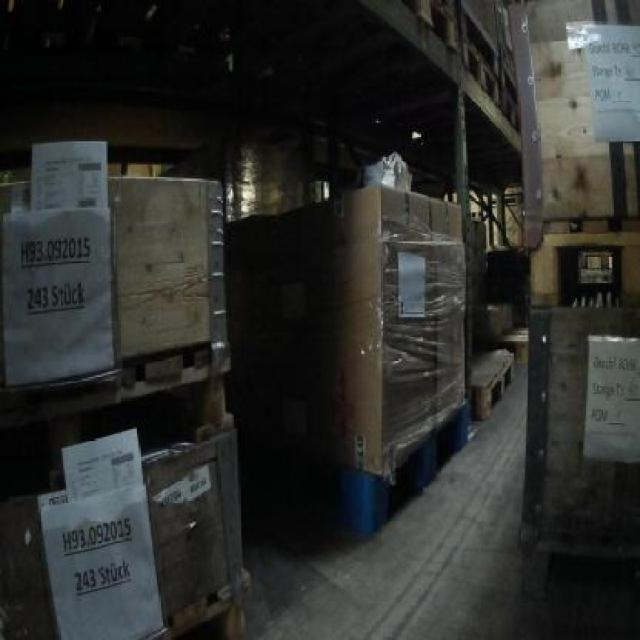ground: (240, 370, 526, 638)
pallet: (264, 386, 483, 548), (390, 0, 527, 151), (117, 557, 267, 638), (514, 518, 638, 608), (518, 224, 638, 312), (469, 336, 517, 422)
